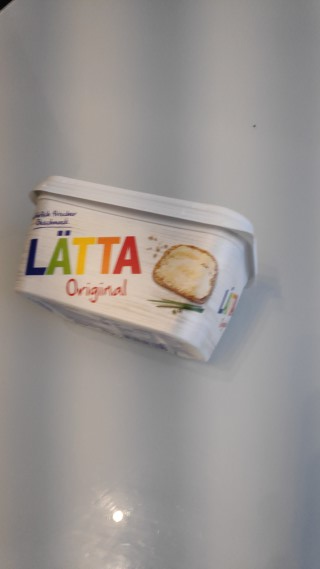laetta: (12, 173, 258, 365)
